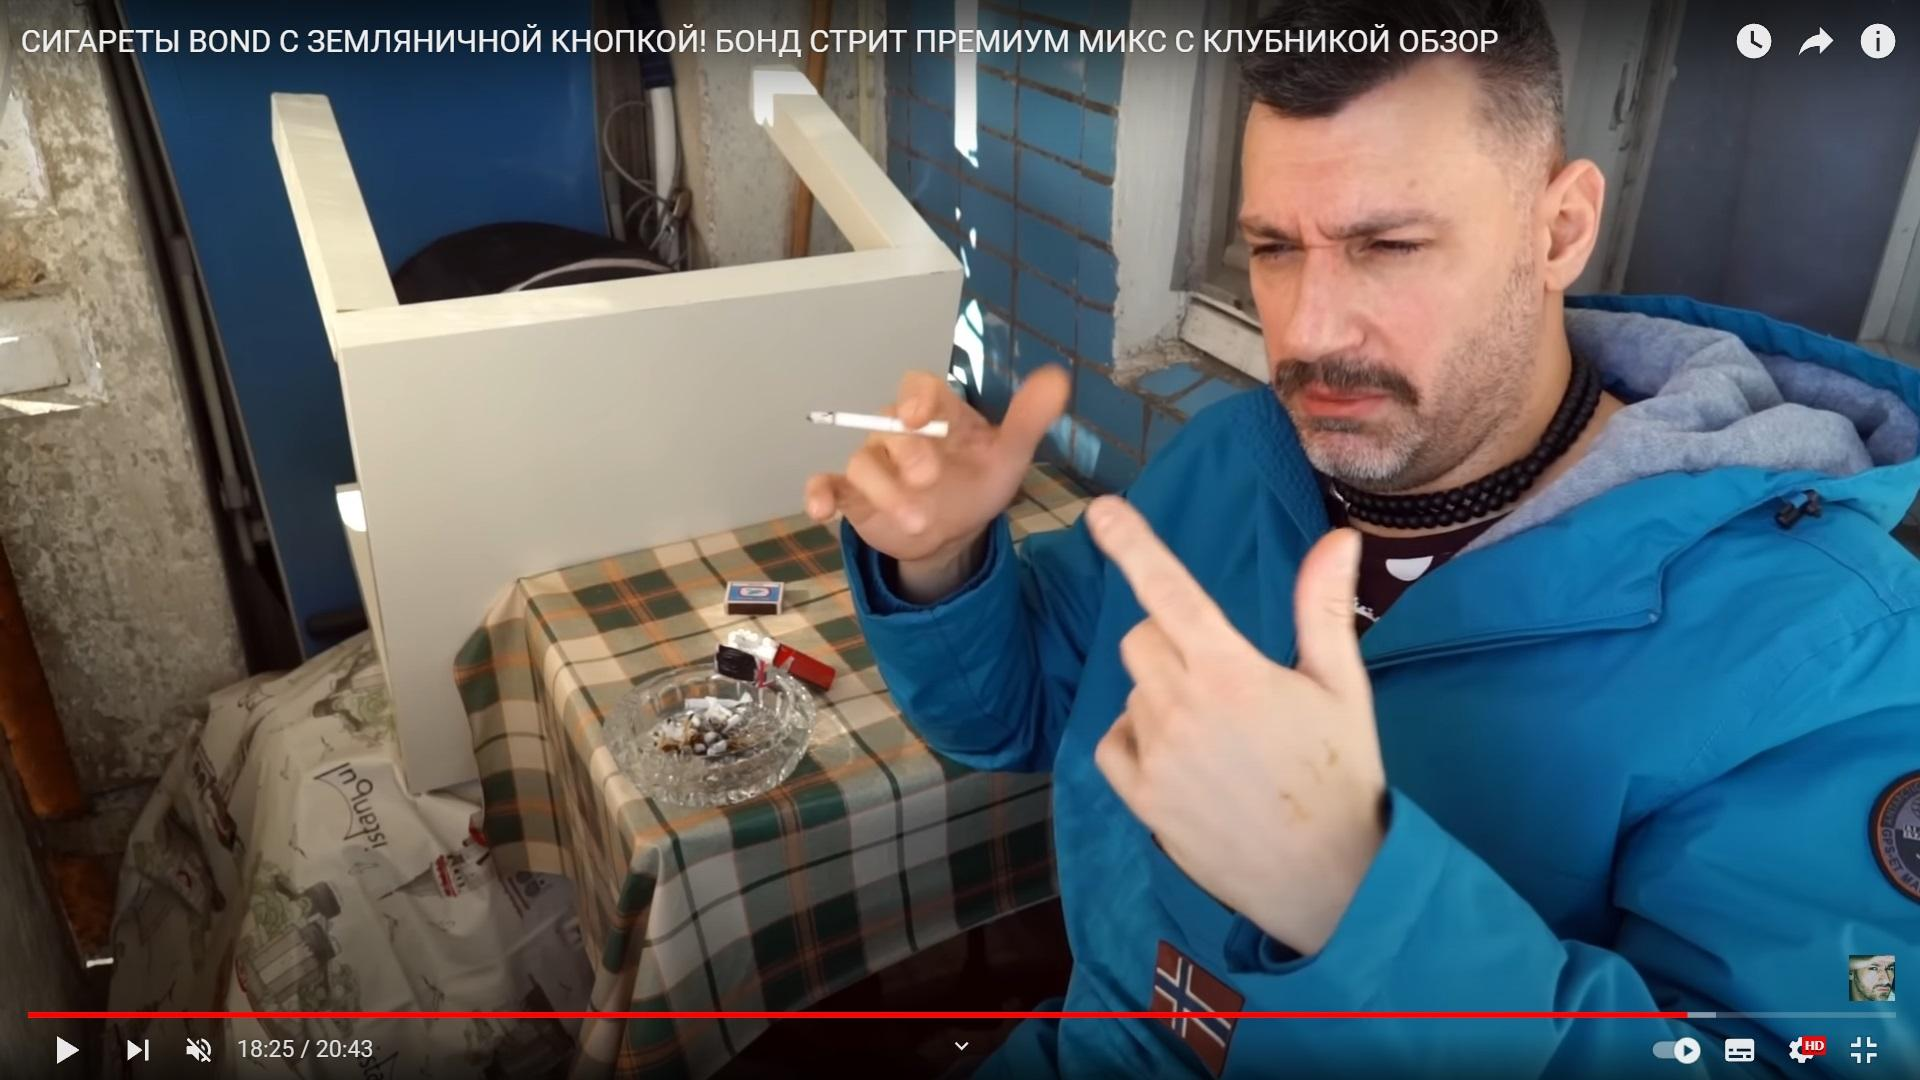cigarette: (807, 410, 949, 438)
